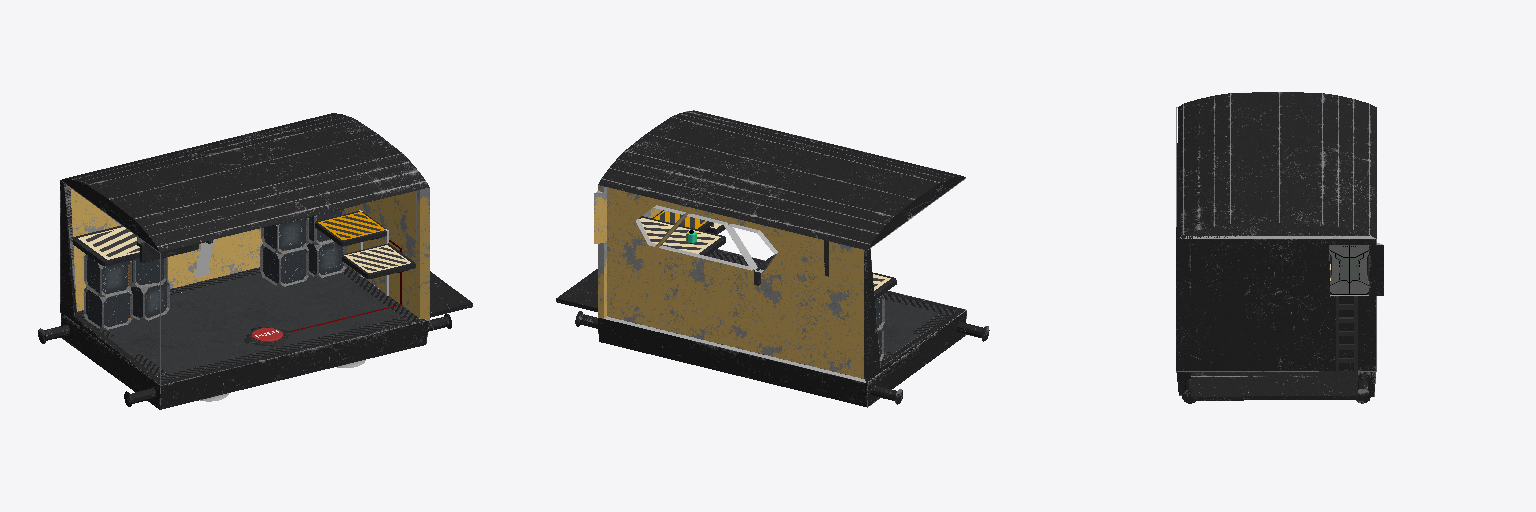
The picture shows the model from 3 angles: view 1: azimuth 30°, elevation 25°; view 2: azimuth 150°, elevation 25°; view 3: azimuth 270°, elevation 25°; orthographic projection.
Parts seen in each view (by area): view 1: F_floor_4.001, R_roof_1.013, Y_decoBox1_1.007, W_back_wall_1.013, Y_decoBox1_1.005, W_left_wall_1.013, W_right_wall_down_1.013, S_corner_platform_1.019, S_corner_platform_1.018, M_04_moving_platform_4, W_right_wall_left_1.013, X_Przejscie3.001 (+2 smaller); view 2: W_back_wall_1.013, R_roof_1.013, F_floor_4.001, W_left_wall_1.013, S_corner_platform_1.017, X_Przejscie3.001, W_right_wall_down_1.013, W_right_wall_right_2.003; view 3: R_roof_1.013, W_right_wall_down_1.013, W_right_wall_left_1.013, X_Przejscie3.001, W_right_wall_up_1.013, F_floor_4.001, D_left_door_3.001, X_Drabina3.001, D_right_door_3.001, W_right_wall_right_2.003, W_right_wall_right_1.014.
Boxes of the visible parts, <box> form: F_floor_4.001: <box>38,266,451,409</box>; R_roof_1.013: <box>65,113,429,251</box>; Y_decoBox1_1.007: <box>84,255,169,329</box>; W_back_wall_1.013: <box>70,188,262,311</box>; Y_decoBox1_1.005: <box>260,209,346,286</box>; W_left_wall_1.013: <box>60,179,162,383</box>; W_right_wall_down_1.013: <box>345,203,429,319</box>; S_corner_platform_1.019: <box>73,225,204,266</box>; S_corner_platform_1.018: <box>342,243,415,278</box>; M_04_moving_platform_4: <box>315,211,386,245</box>; W_right_wall_left_1.013: <box>366,191,416,239</box>; X_Przejscie3.001: <box>430,271,472,317</box>; W_back_wall_1.013: <box>607,187,863,378</box>; R_roof_1.013: <box>598,110,960,249</box>; F_floor_4.001: <box>575,249,989,407</box>; W_left_wall_1.013: <box>864,176,965,382</box>; S_corner_platform_1.017: <box>639,216,725,255</box>; X_Przejscie3.001: <box>556,269,597,311</box>; W_right_wall_down_1.013: <box>598,208,662,318</box>; W_right_wall_right_2.003: <box>594,190,606,243</box>; R_roof_1.013: <box>1176,92,1376,238</box>; W_right_wall_down_1.013: <box>1176,295,1376,370</box>; W_right_wall_left_1.013: <box>1191,245,1329,295</box>; X_Przejscie3.001: <box>1191,371,1357,400</box>; W_right_wall_up_1.013: <box>1176,236,1376,244</box>; F_floor_4.001: <box>1176,371,1376,403</box>; D_left_door_3.001: <box>1349,245,1368,294</box>; X_Drabina3.001: <box>1336,296,1357,372</box>; D_right_door_3.001: <box>1330,245,1348,294</box>; W_right_wall_right_2.003: <box>1369,243,1383,295</box>; W_right_wall_right_1.014: <box>1176,245,1190,295</box>.
Size of the model in its own units: 14.32 by 7.33 by 7.45.
Materials: 20 (15 with a texture image).